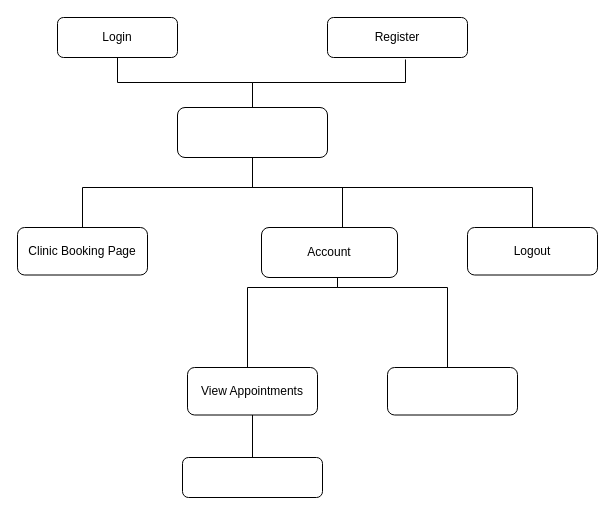
This 615x515 diagram has some shape labels left out. The box of each missing label's shape, as (x1, y1, x2, y2) in pixels:
Cancel Appointment: (182, 456, 322, 498)
Map view: (176, 106, 328, 158)
Update account: (386, 366, 518, 415)
